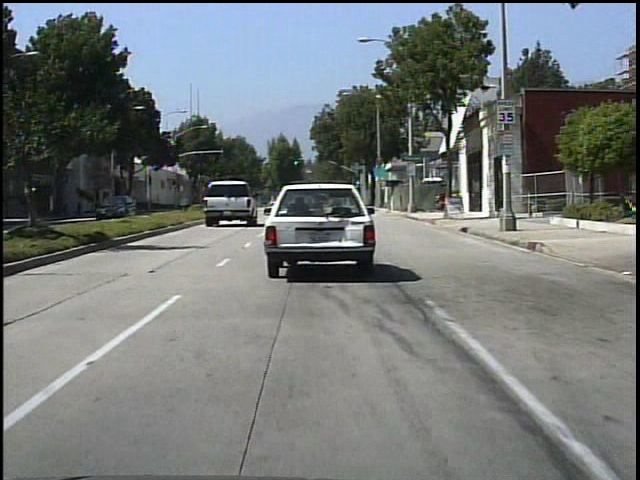person: (127, 193, 142, 216), (74, 197, 88, 220)
